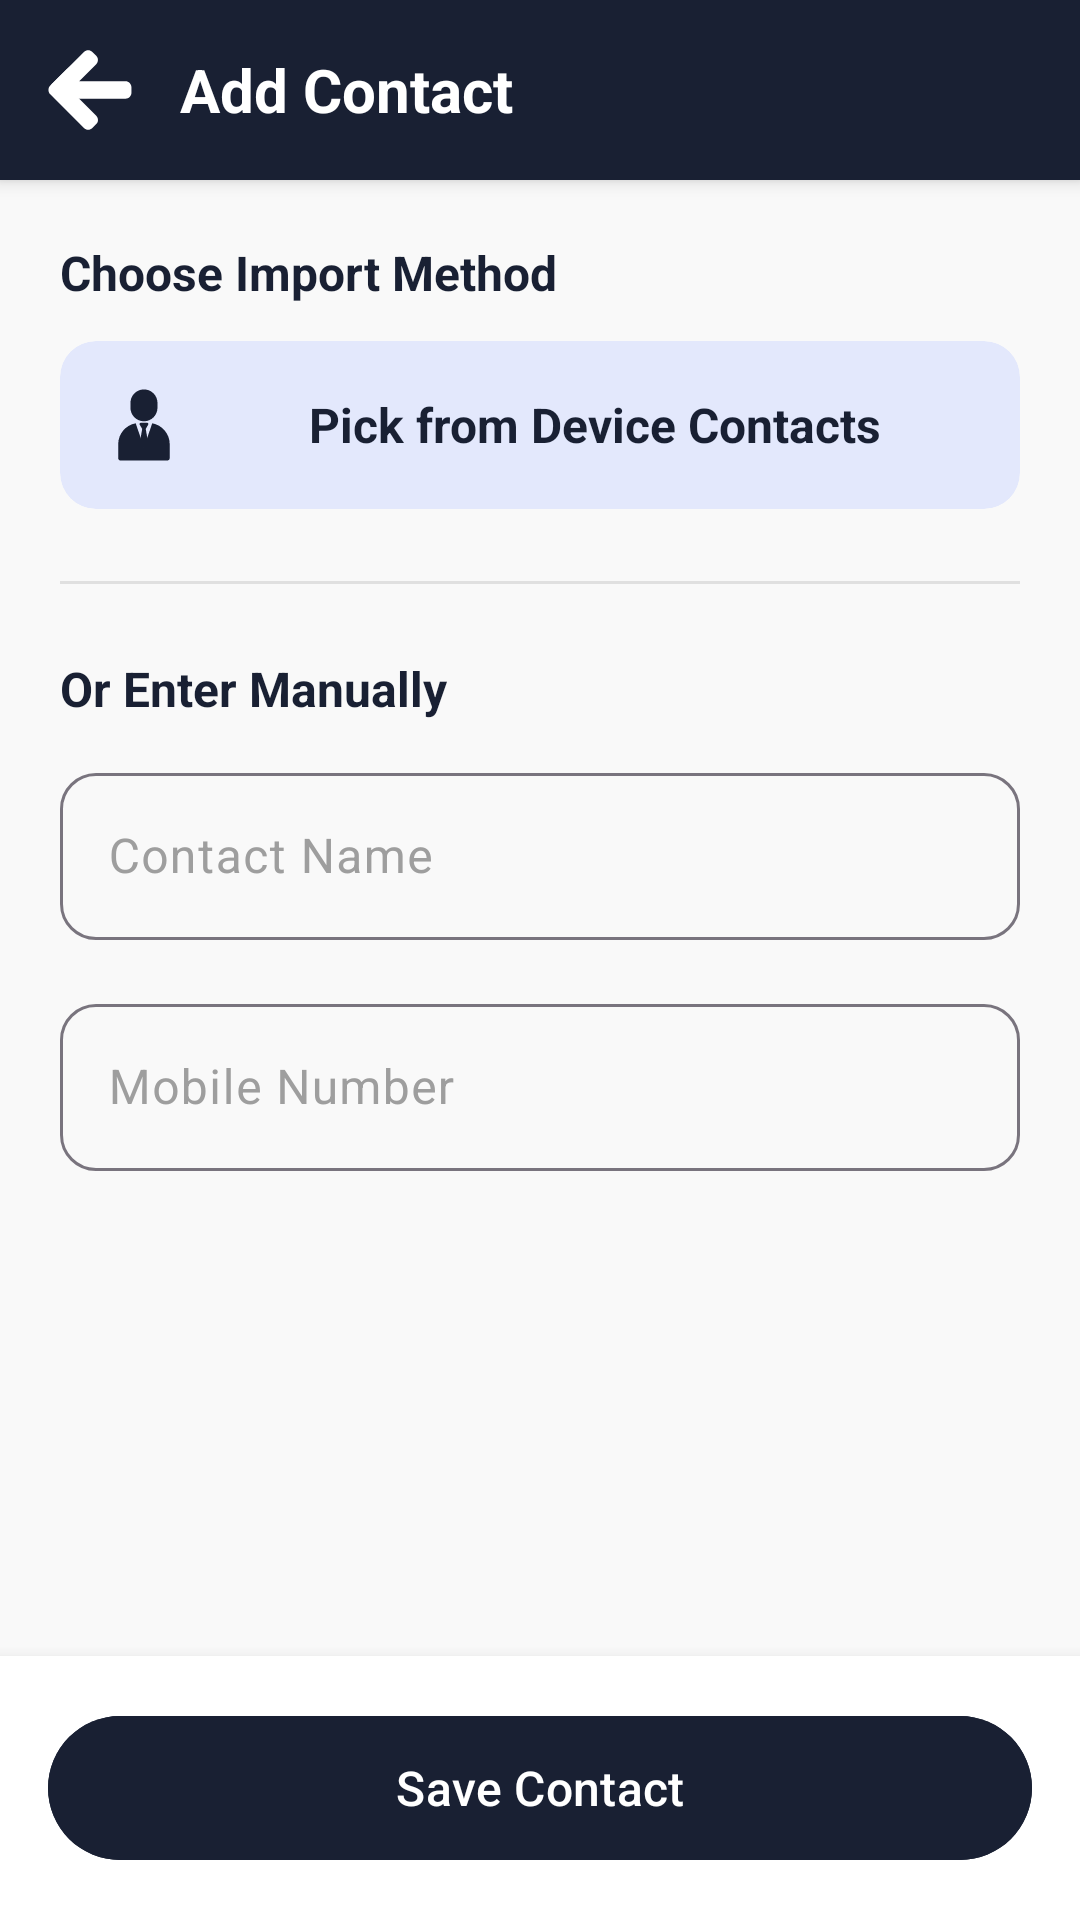

Icons on this 1080px×1920px Android screen, each with its box as [x1=x1, y1=y1, x2=x2, y2=y2]:
back: [x1=48, y1=50, x2=132, y2=130]
